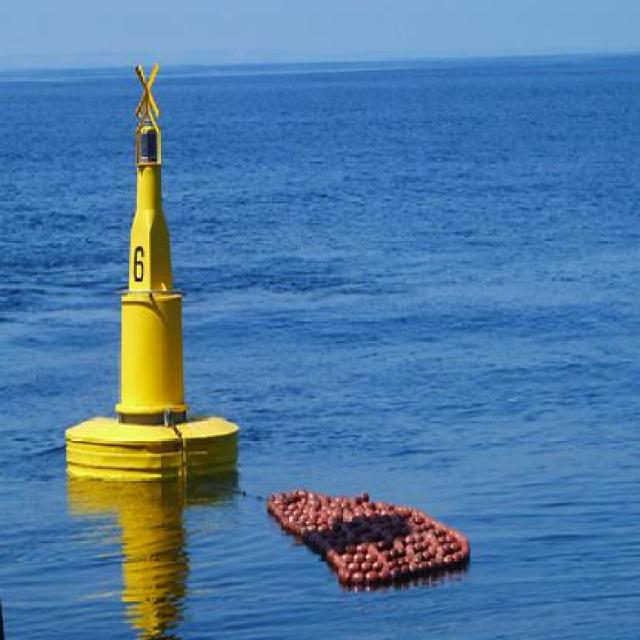a: (52, 53, 259, 481), (262, 459, 479, 601)
